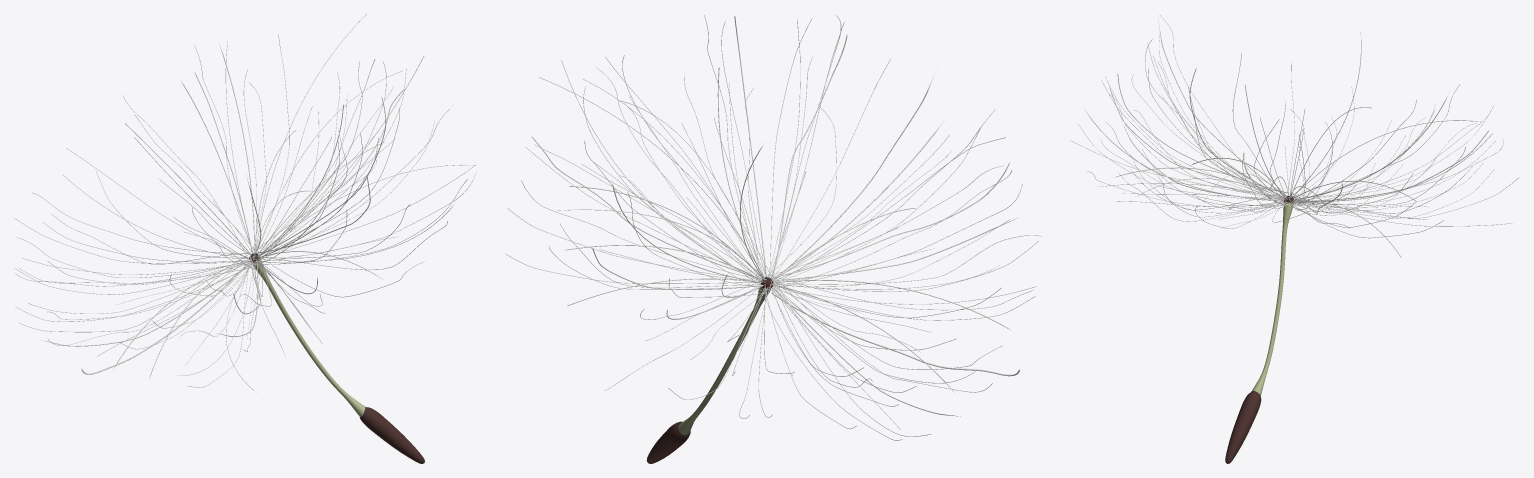
Rendered from seed_color.glb.
3 renders of one model, left to right at view 1: azimuth 30°, elevation 25°; view 2: azimuth 150°, elevation 25°; view 3: azimuth 270°, elevation 25°, orthographic. The views are drawn at different scales.
Visible parts, largest first — view 1: Sphere002, Cylinder001; view 2: Cylinder001, Sphere002; view 3: Sphere002, Cylinder001.
Part boxes in pixels (<box>): Sphere002: <box>359,407,424,463</box>; Cylinder001: <box>252,259,365,416</box>; Cylinder001: <box>678,287,770,435</box>; Sphere002: <box>646,421,690,463</box>; Sphere002: <box>1225,391,1261,463</box>; Cylinder001: <box>1251,202,1293,395</box>.
Size of the model in its own units: 10.65 by 10.44 by 11.02.
